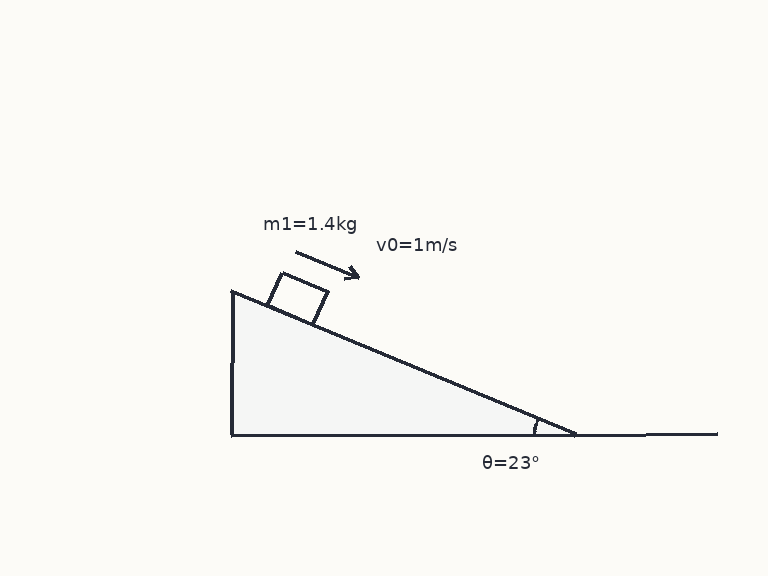block: (266, 270, 328, 326)
ramp: (230, 288, 576, 437)
